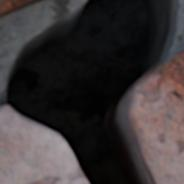brick: (0, 0, 40, 17)
broken_brick: (131, 50, 183, 183), (0, 106, 87, 183)
crack: (0, 0, 183, 183)
